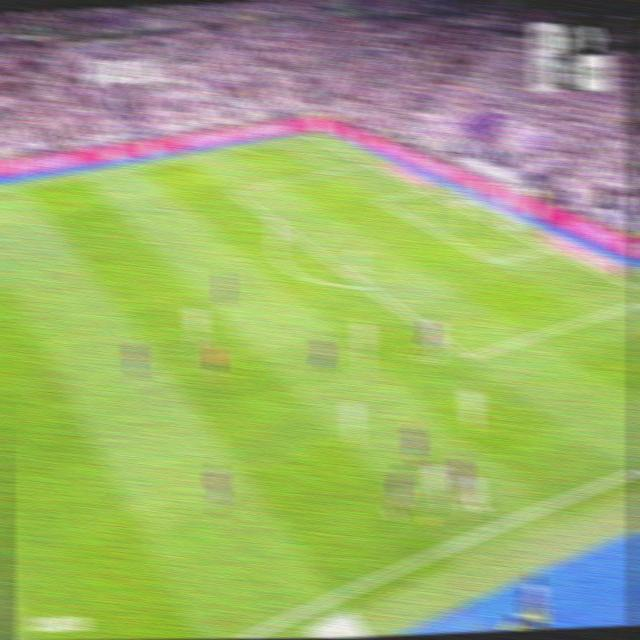bigarea_bottom_inner: (460, 345, 476, 368)
bigarea_top_inner: (228, 185, 240, 198)
bigarea_top_outter: (360, 155, 373, 166)
bottom_arc_area_intersection: (360, 279, 373, 292)
corner: (303, 130, 317, 138)
smallarea_bottom_inner: (489, 254, 504, 270)
smallarea_bottom_outter: (539, 241, 552, 253)
smallarea_top_inner: (375, 195, 386, 204)
top_arc_area_intersection: (280, 222, 293, 235)
